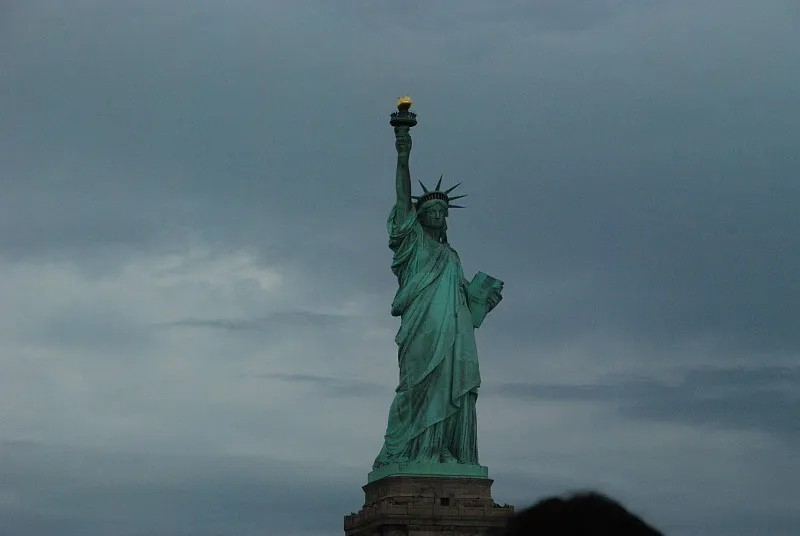SL: (344, 95, 516, 536)
